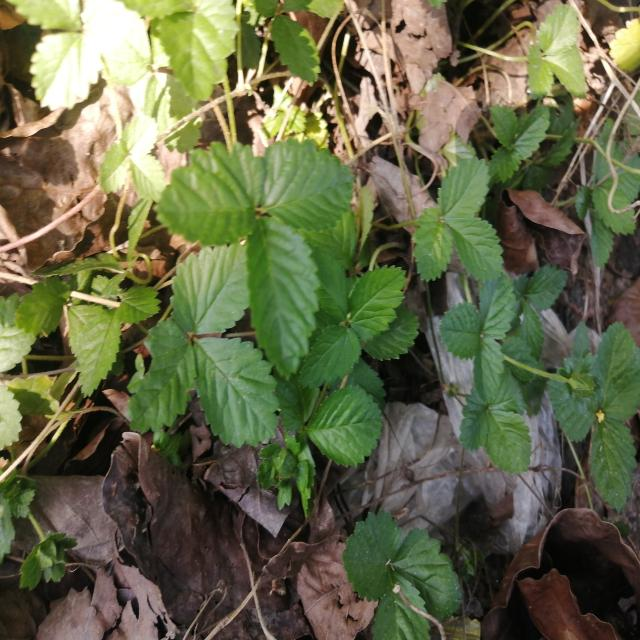Mock_strawberry: (153, 156, 412, 456), (420, 165, 608, 457)
